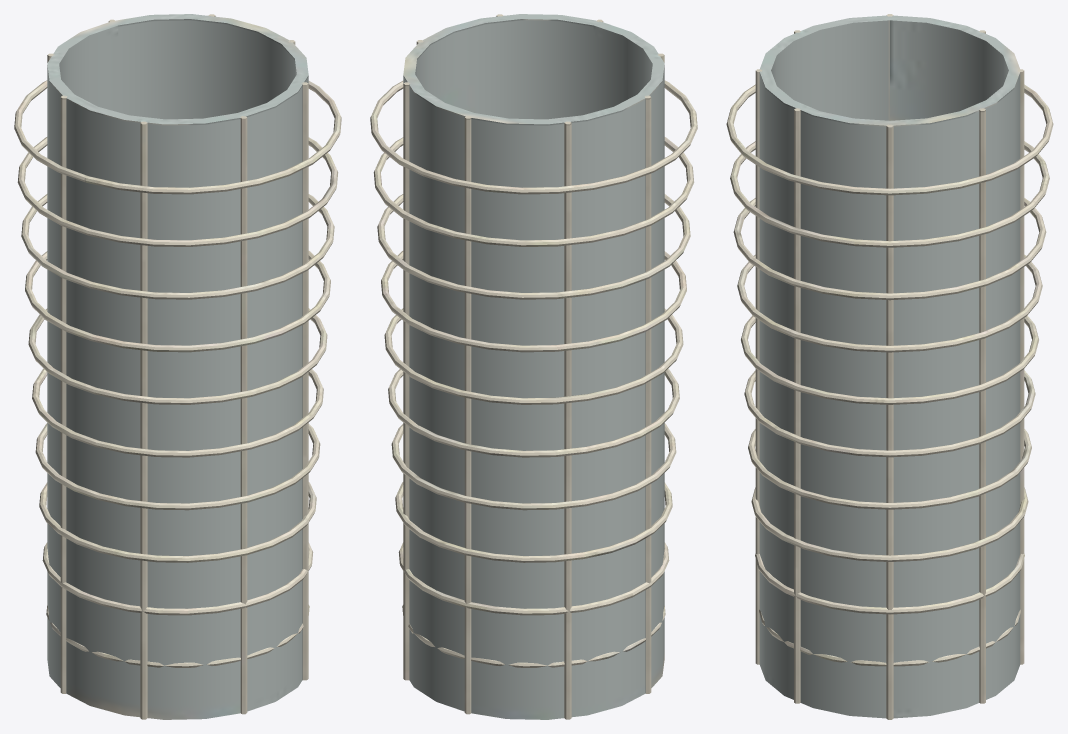
The model's file is sponge.glb.
The picture shows the model from 3 angles, left to right: view 1: azimuth 30°, elevation 25°; view 2: azimuth 150°, elevation 25°; view 3: azimuth 270°, elevation 25°; orthographic projection.
Visible parts, largest first — view 1: vase, rib5, rib6, rib4, rib7, lattice9, lattice8, lattice7, lattice6, lattice5, lattice4, lattice3 (+3 smaller); view 2: vase, rib3, rib2, rib4, rib1, lattice9, lattice8, lattice7, lattice6, lattice5, lattice4, lattice3 (+3 smaller); view 3: vase, rib0, rib1, rib7, lattice9, lattice8, lattice7, lattice6, lattice5, lattice4, lattice3, rib2 (+4 smaller).
Boxes of the visible parts, left/top/right/bottom form: vase: left=47, top=14, right=308, bottom=719; rib5: left=140, top=121, right=147, bottom=719; rib6: left=240, top=116, right=247, bottom=714; rib4: left=60, top=95, right=67, bottom=693; rib7: left=301, top=82, right=308, bottom=680; lattice9: left=14, top=80, right=341, bottom=194; lattice8: left=17, top=137, right=338, bottom=246; lattice7: left=21, top=194, right=334, bottom=299; lattice6: left=25, top=251, right=330, bottom=352; lattice5: left=28, top=308, right=327, bottom=404; lattice4: left=32, top=368, right=323, bottom=457; lattice3: left=35, top=423, right=320, bottom=510; vase: left=403, top=14, right=664, bottom=719; rib3: left=564, top=121, right=571, bottom=719; rib2: left=464, top=116, right=471, bottom=714; rib4: left=645, top=95, right=651, bottom=693; rib1: left=403, top=82, right=410, bottom=680; lattice9: left=370, top=80, right=697, bottom=194; lattice8: left=373, top=137, right=694, bottom=246; lattice7: left=377, top=194, right=690, bottom=299; lattice6: left=381, top=251, right=686, bottom=352; lattice5: left=384, top=308, right=683, bottom=404; lattice4: left=388, top=368, right=679, bottom=457; lattice3: left=391, top=423, right=676, bottom=510; vase: left=759, top=15, right=1020, bottom=718; rib0: left=886, top=124, right=893, bottom=719; rib1: left=979, top=108, right=985, bottom=703; rib7: left=794, top=108, right=800, bottom=703; lattice9: left=726, top=84, right=1053, bottom=195; lattice8: left=730, top=141, right=1049, bottom=247; lattice7: left=733, top=198, right=1046, bottom=300; lattice6: left=737, top=254, right=1042, bottom=352; lattice5: left=741, top=315, right=1038, bottom=404; lattice4: left=744, top=370, right=1035, bottom=457; lattice3: left=748, top=429, right=1031, bottom=509; rib2: left=1017, top=69, right=1024, bottom=664.
Size of the model in its own units: 0.55 by 1.1 by 0.55.
Materials: 1 (1 with a texture image).
